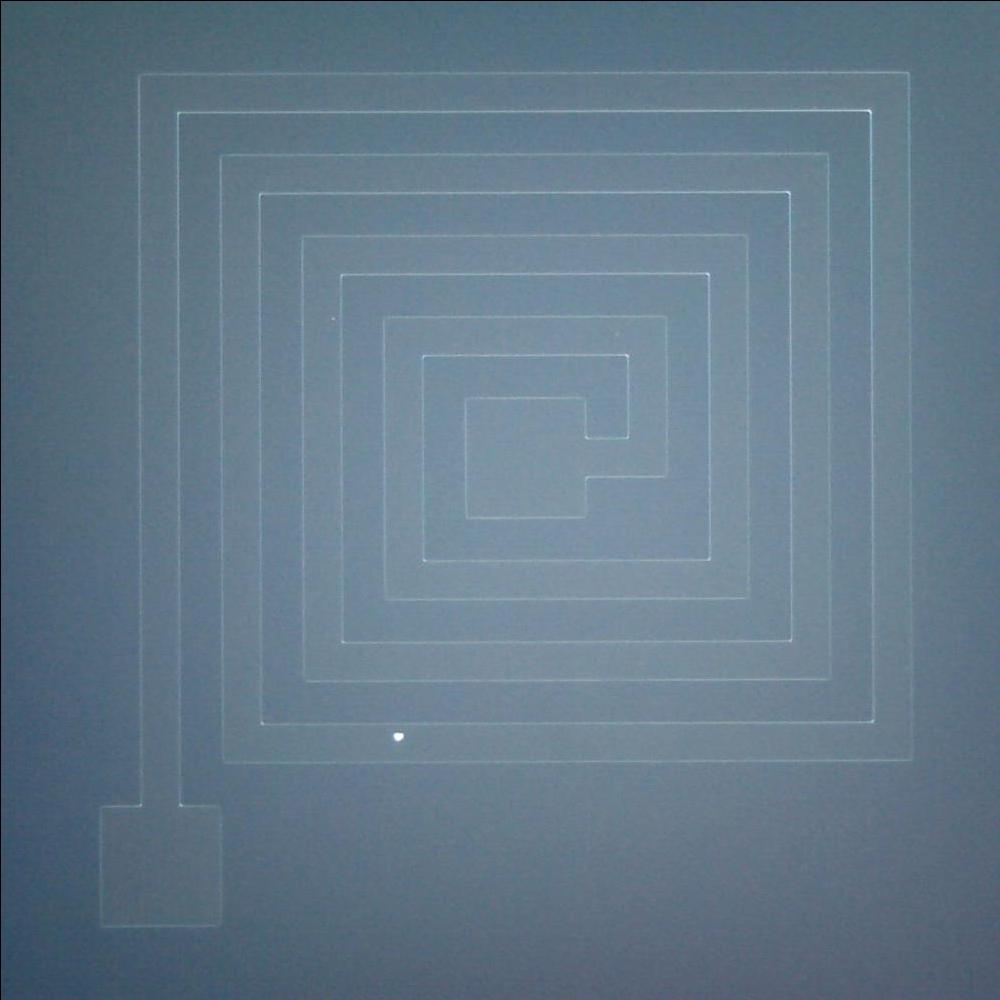spot: (384, 726, 411, 748)
